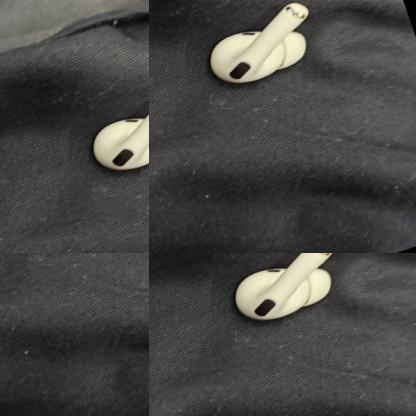Airpods: (204, 83, 416, 253), (0, 253, 149, 405), (209, 253, 376, 346), (15, 163, 149, 253)
